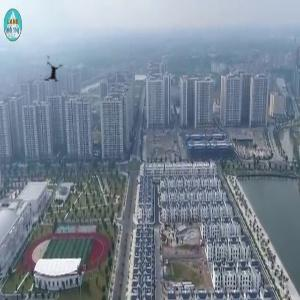drone: (29, 49, 76, 96)
